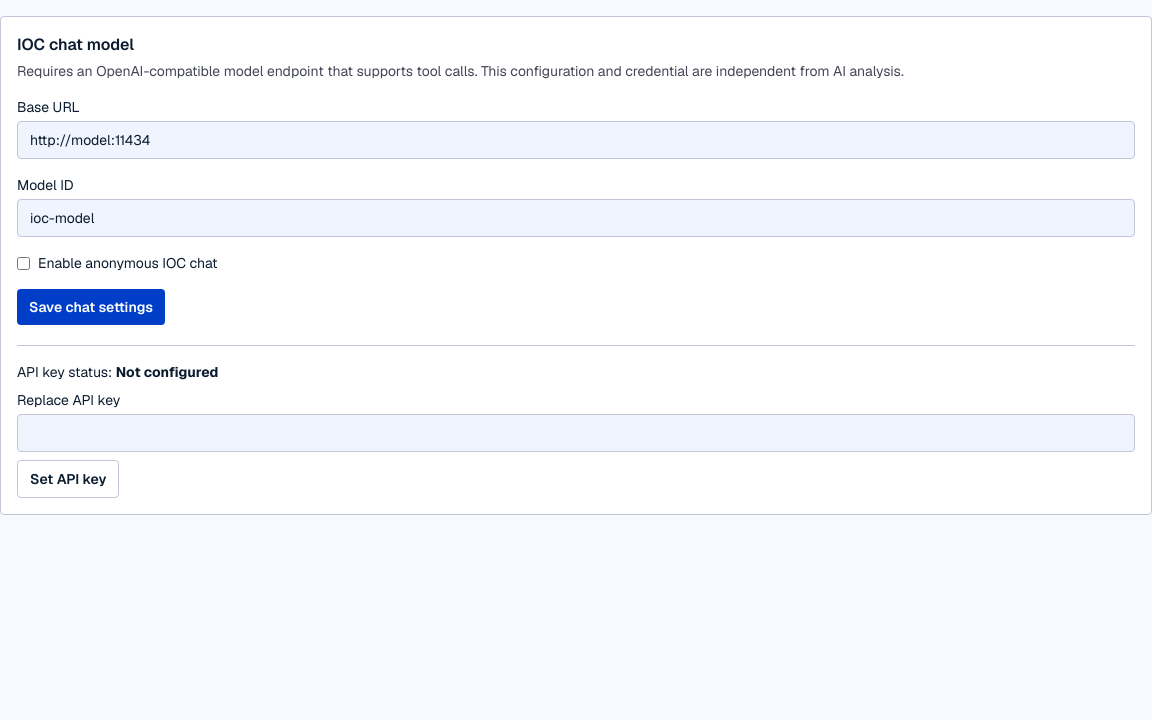
Scenario: AdminIocChatSettings › shows an accessible error feedback when the API key save fails
Type "secret-value" into the password field labelled "Replace API key" at (576, 433), box [17,414,1135,452]
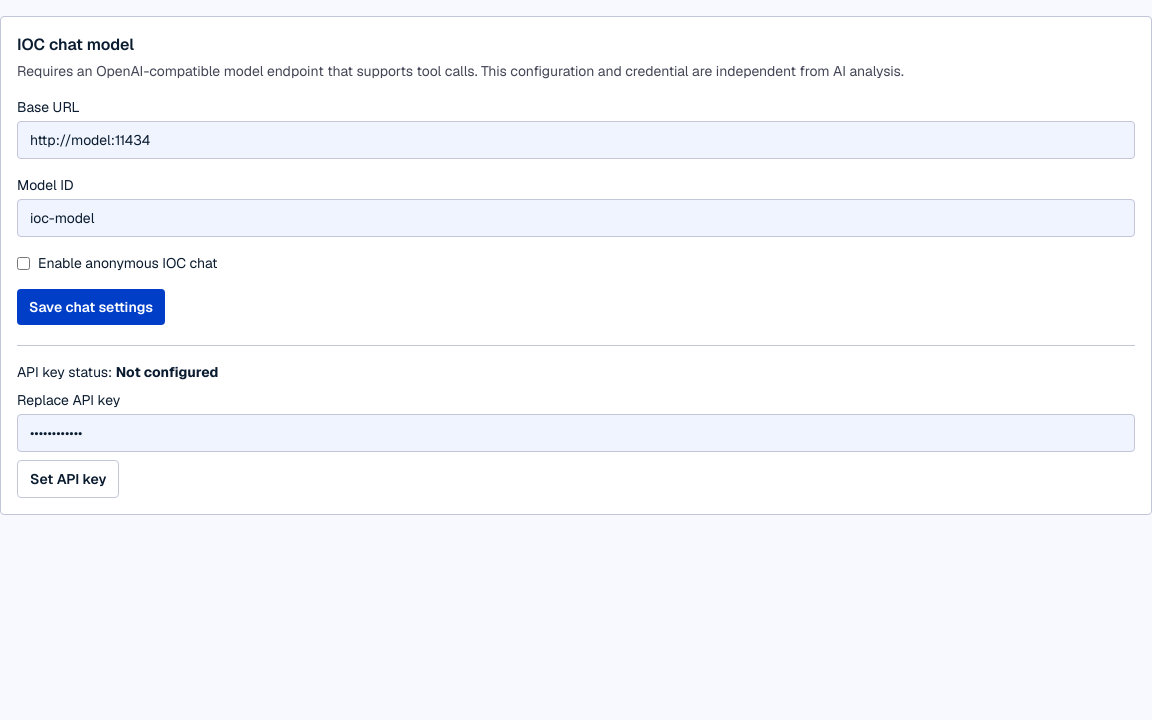
Click the button "Set API key" at (68, 479), box [17,460,119,498]
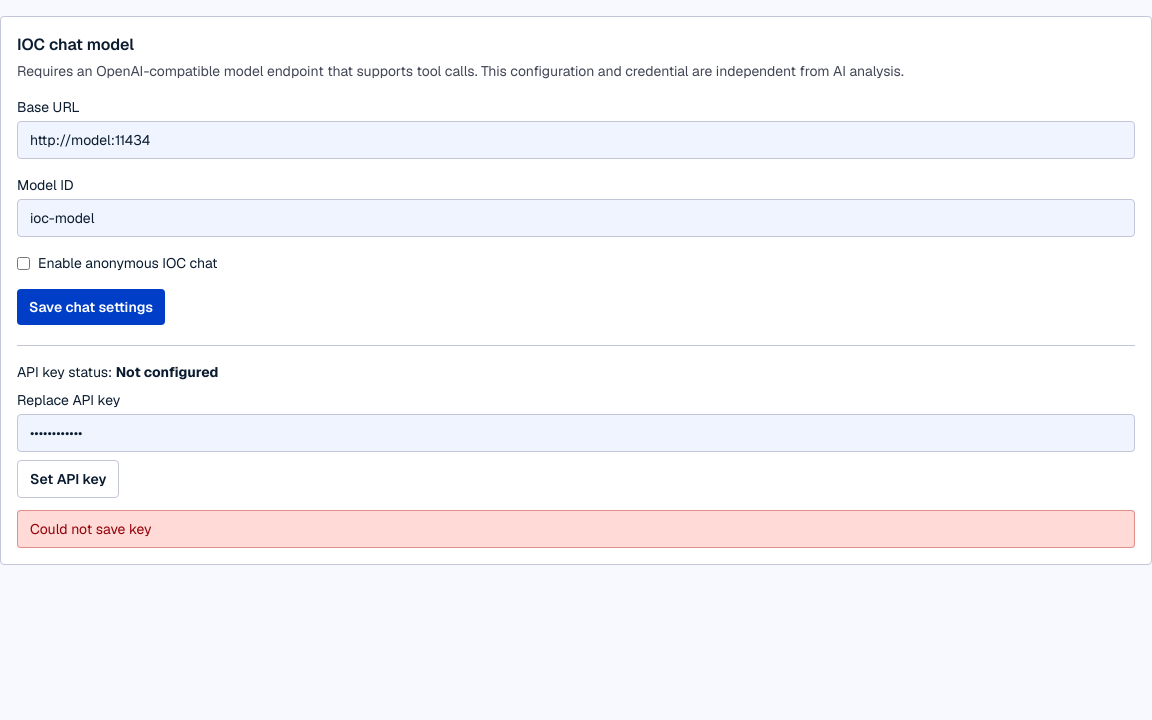
Result: the message reads "Could not save key" at [30,520,152,538]
